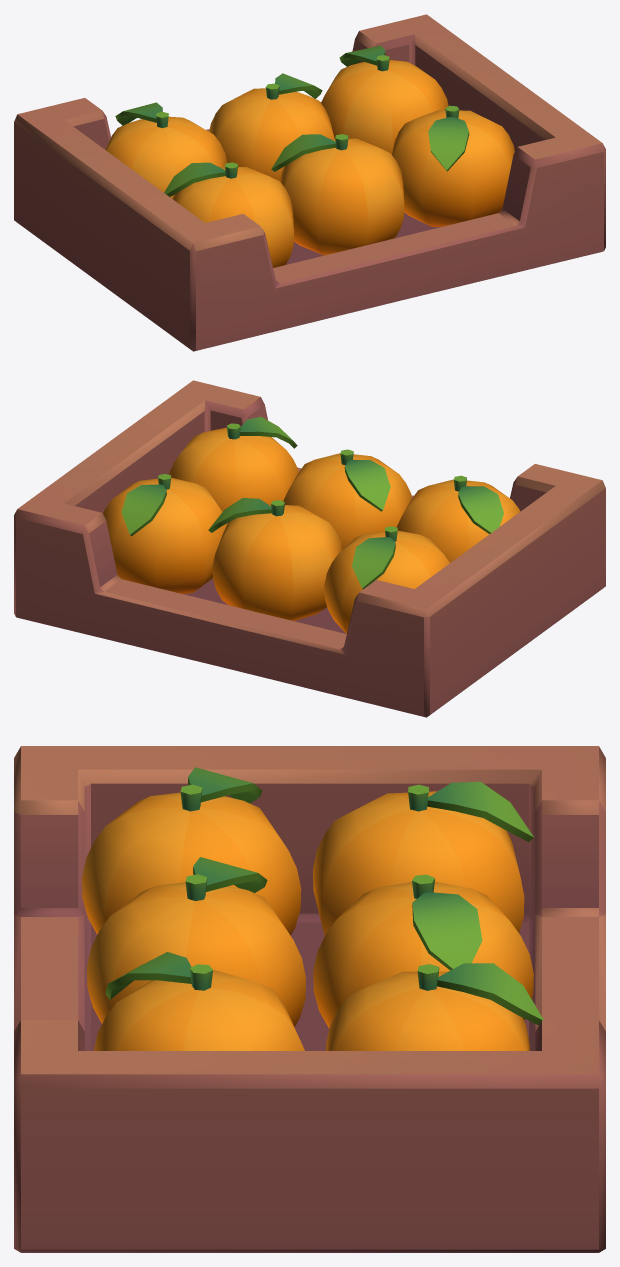
The model's file is Fruit_Crate_Oranges_01.fbx.
3 renders of one model, top to bottom at view 1: azimuth 30°, elevation 25°; view 2: azimuth 150°, elevation 25°; view 3: azimuth 270°, elevation 25°, orthographic. The views are drawn at different scales.
Visible parts, largest first — view 1: Fruit_Crate_Oranges_01; view 2: Fruit_Crate_Oranges_01; view 3: Fruit_Crate_Oranges_01.
Part boxes in pixels (box(x1,y1,x2,y2)): Fruit_Crate_Oranges_01: box(14, 14, 605, 351); Fruit_Crate_Oranges_01: box(14, 380, 605, 717); Fruit_Crate_Oranges_01: box(14, 746, 605, 1252).
Bounding box in the file's own units: 1.6 × 0.4635 × 1.2.
